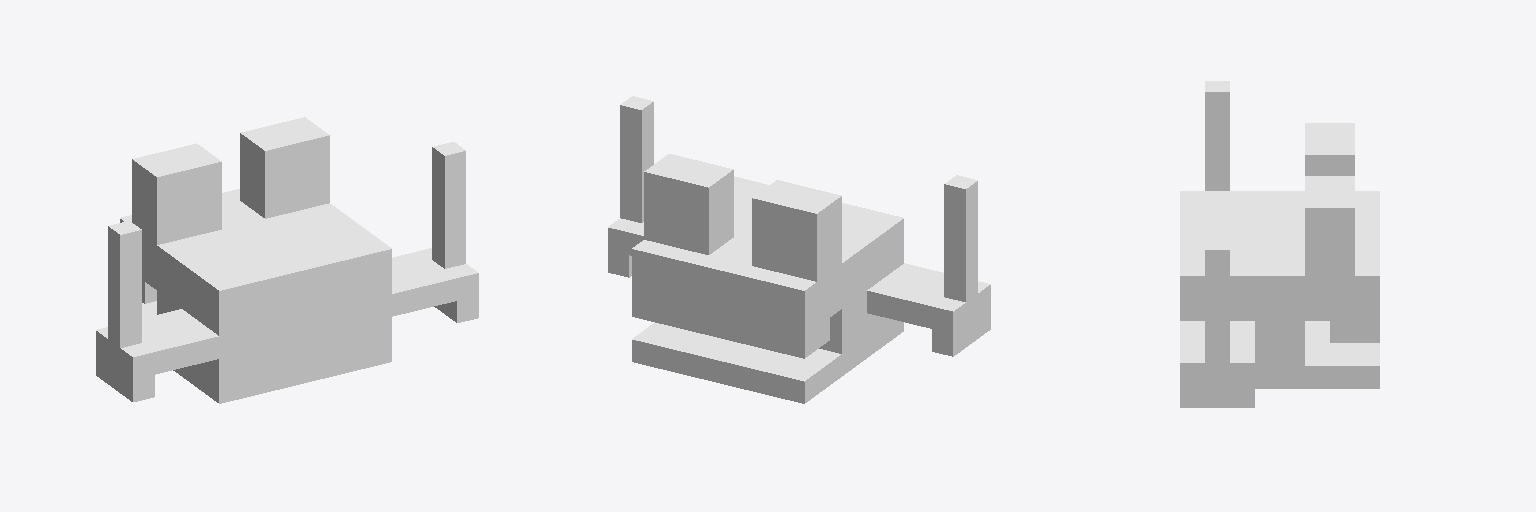
File: robot3.obj
3 views of the same model, side by side, from view 1: azimuth 30°, elevation 25°; view 2: azimuth 150°, elevation 25°; view 3: azimuth 270°, elevation 25° (orthographic).
Bounding box in the file's own units: 16 × 8 × 8.